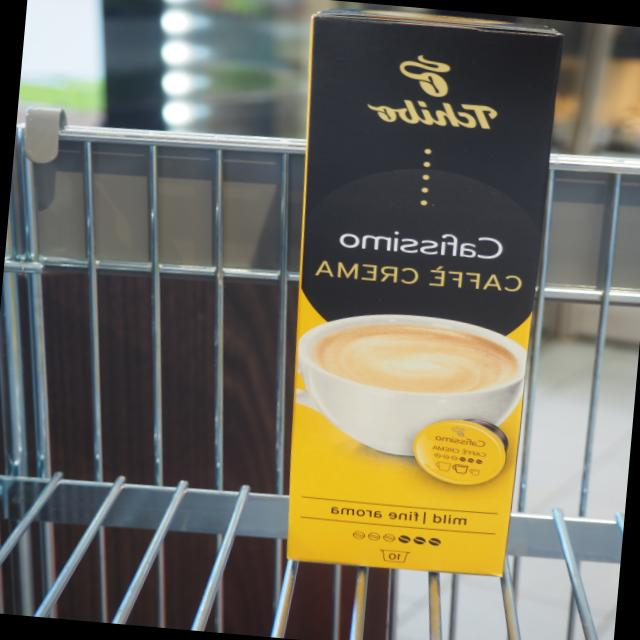Simo CCMild bigpack: (259, 7, 579, 586)
